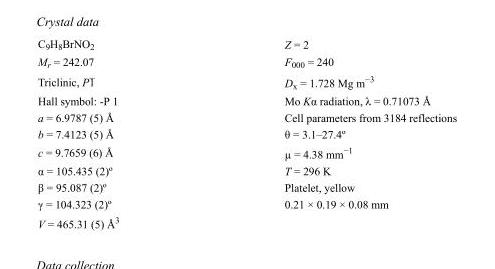table: (37, 36, 456, 229)
table column: (201, 36, 456, 229), (37, 36, 201, 229)
table row: (37, 71, 456, 92), (37, 52, 456, 71), (37, 142, 456, 161), (37, 108, 456, 125), (37, 125, 456, 142), (37, 161, 456, 178), (37, 178, 456, 195), (37, 195, 456, 212), (37, 212, 456, 229), (37, 36, 456, 52), (37, 92, 456, 108)
